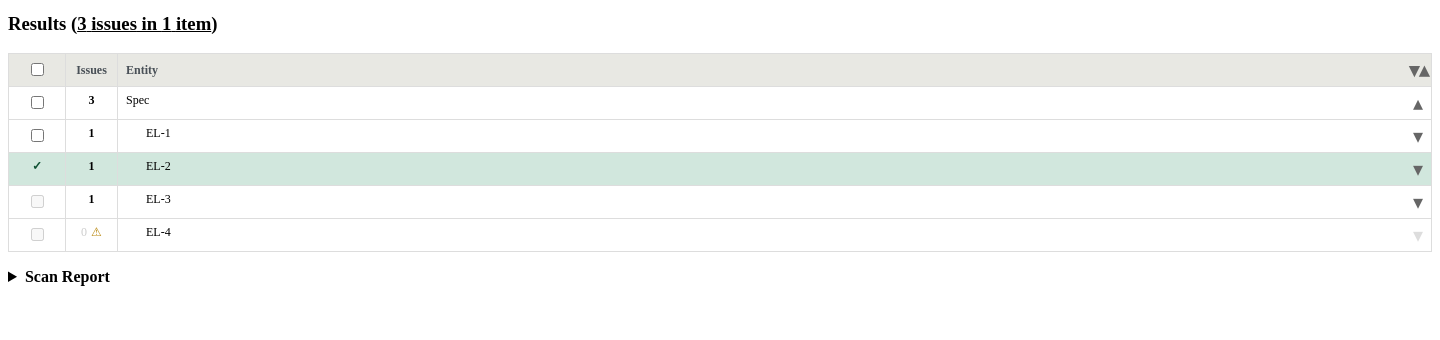
ResultsTable collections › expands a subitem into its issue list and collapses it again
The image size is (1440, 340).
Click the button with class "clickable" in the row of "EL-1": (1418, 136) [1413,126,1423,146]
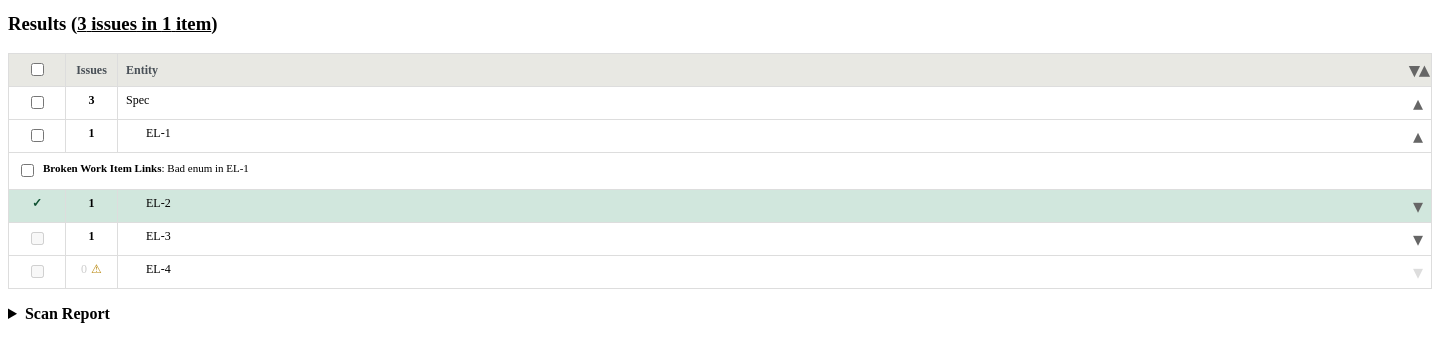
Check: the list with class "subitem-issue-list" is shown, box [21,162,249,177]
Click the 4th button with class "clickable": (1418, 136) [1413,126,1423,146]
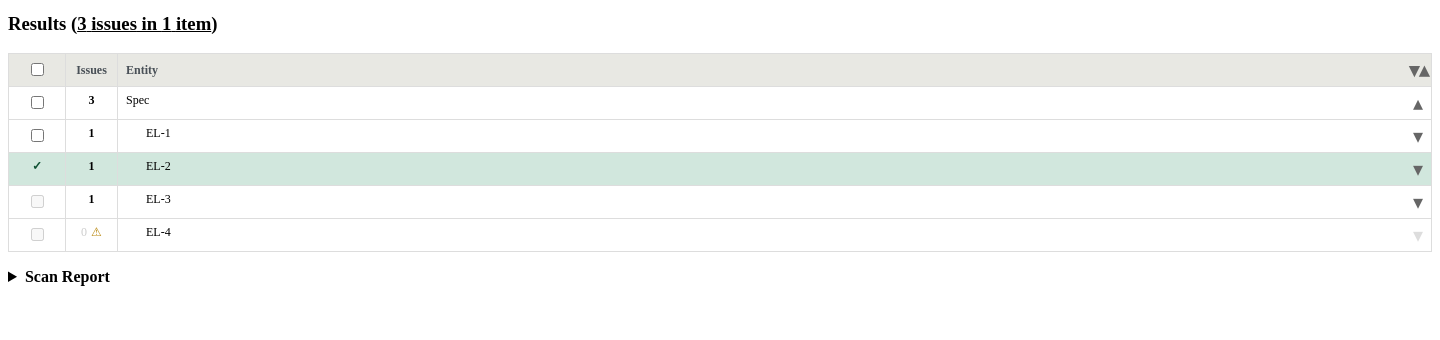
Check: the list with class "subitem-issue-list" is gone
